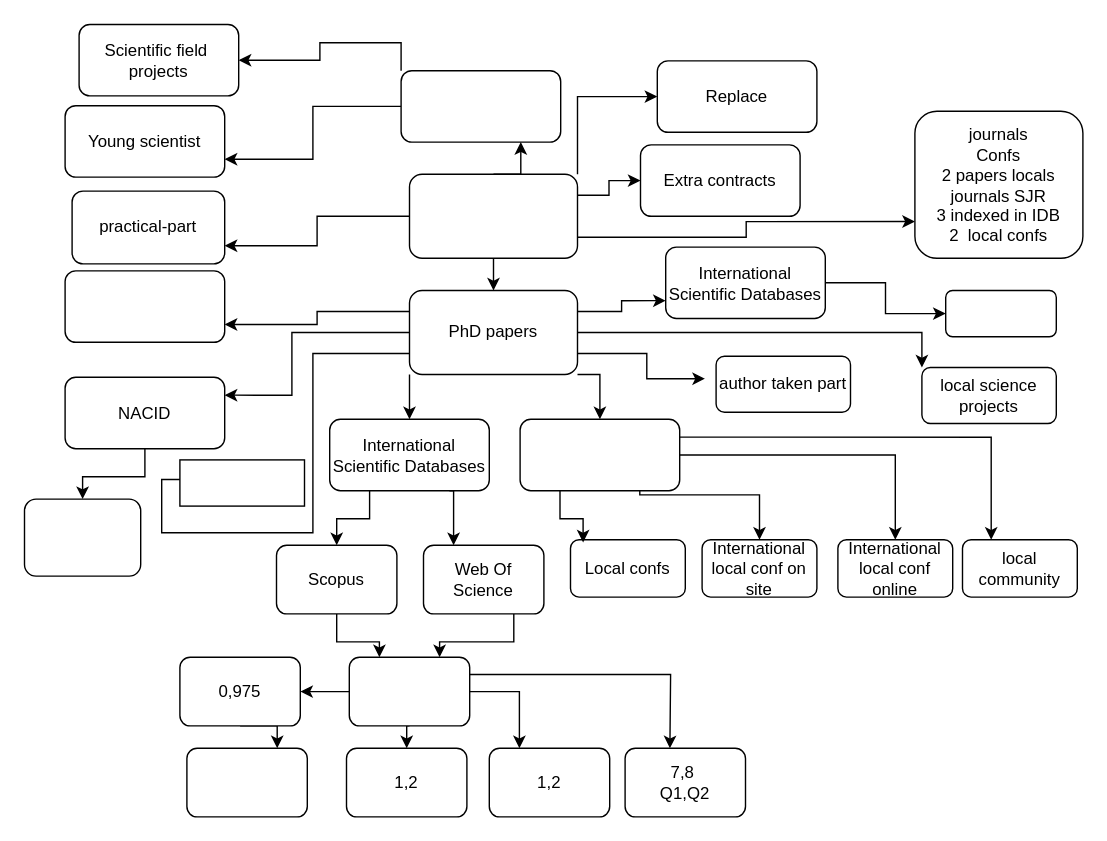
The diagram is 1107 pixels wide and 841 high, and some of its shapes have lost their labels. Here are the shapes that lost their labels. From the top down, the centre of each, then its label:
[480,105]: Extra research
[493,215]: PhD factors
[144,306]: Scientific community
[1000,313]: results
[599,454]: International and local confs
[241,482]: higher-indexed p
[82,537]: NACID-higher
[409,691]: SJR
[246,782]: High Rank
